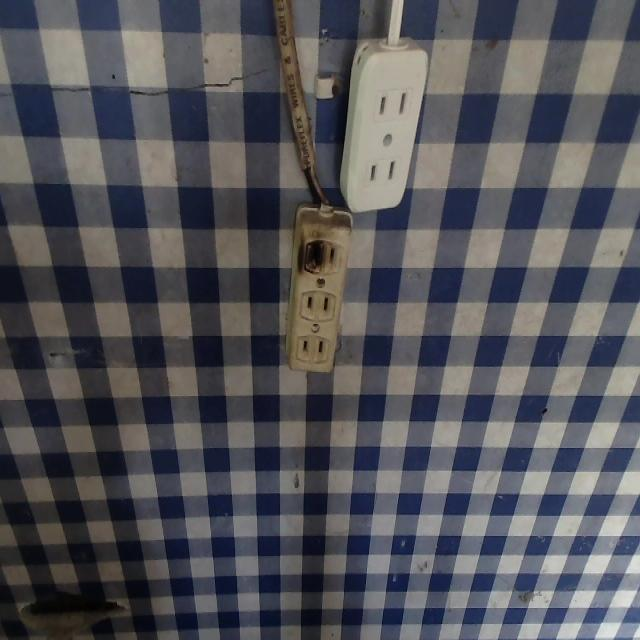-: (299, 228, 330, 279)
